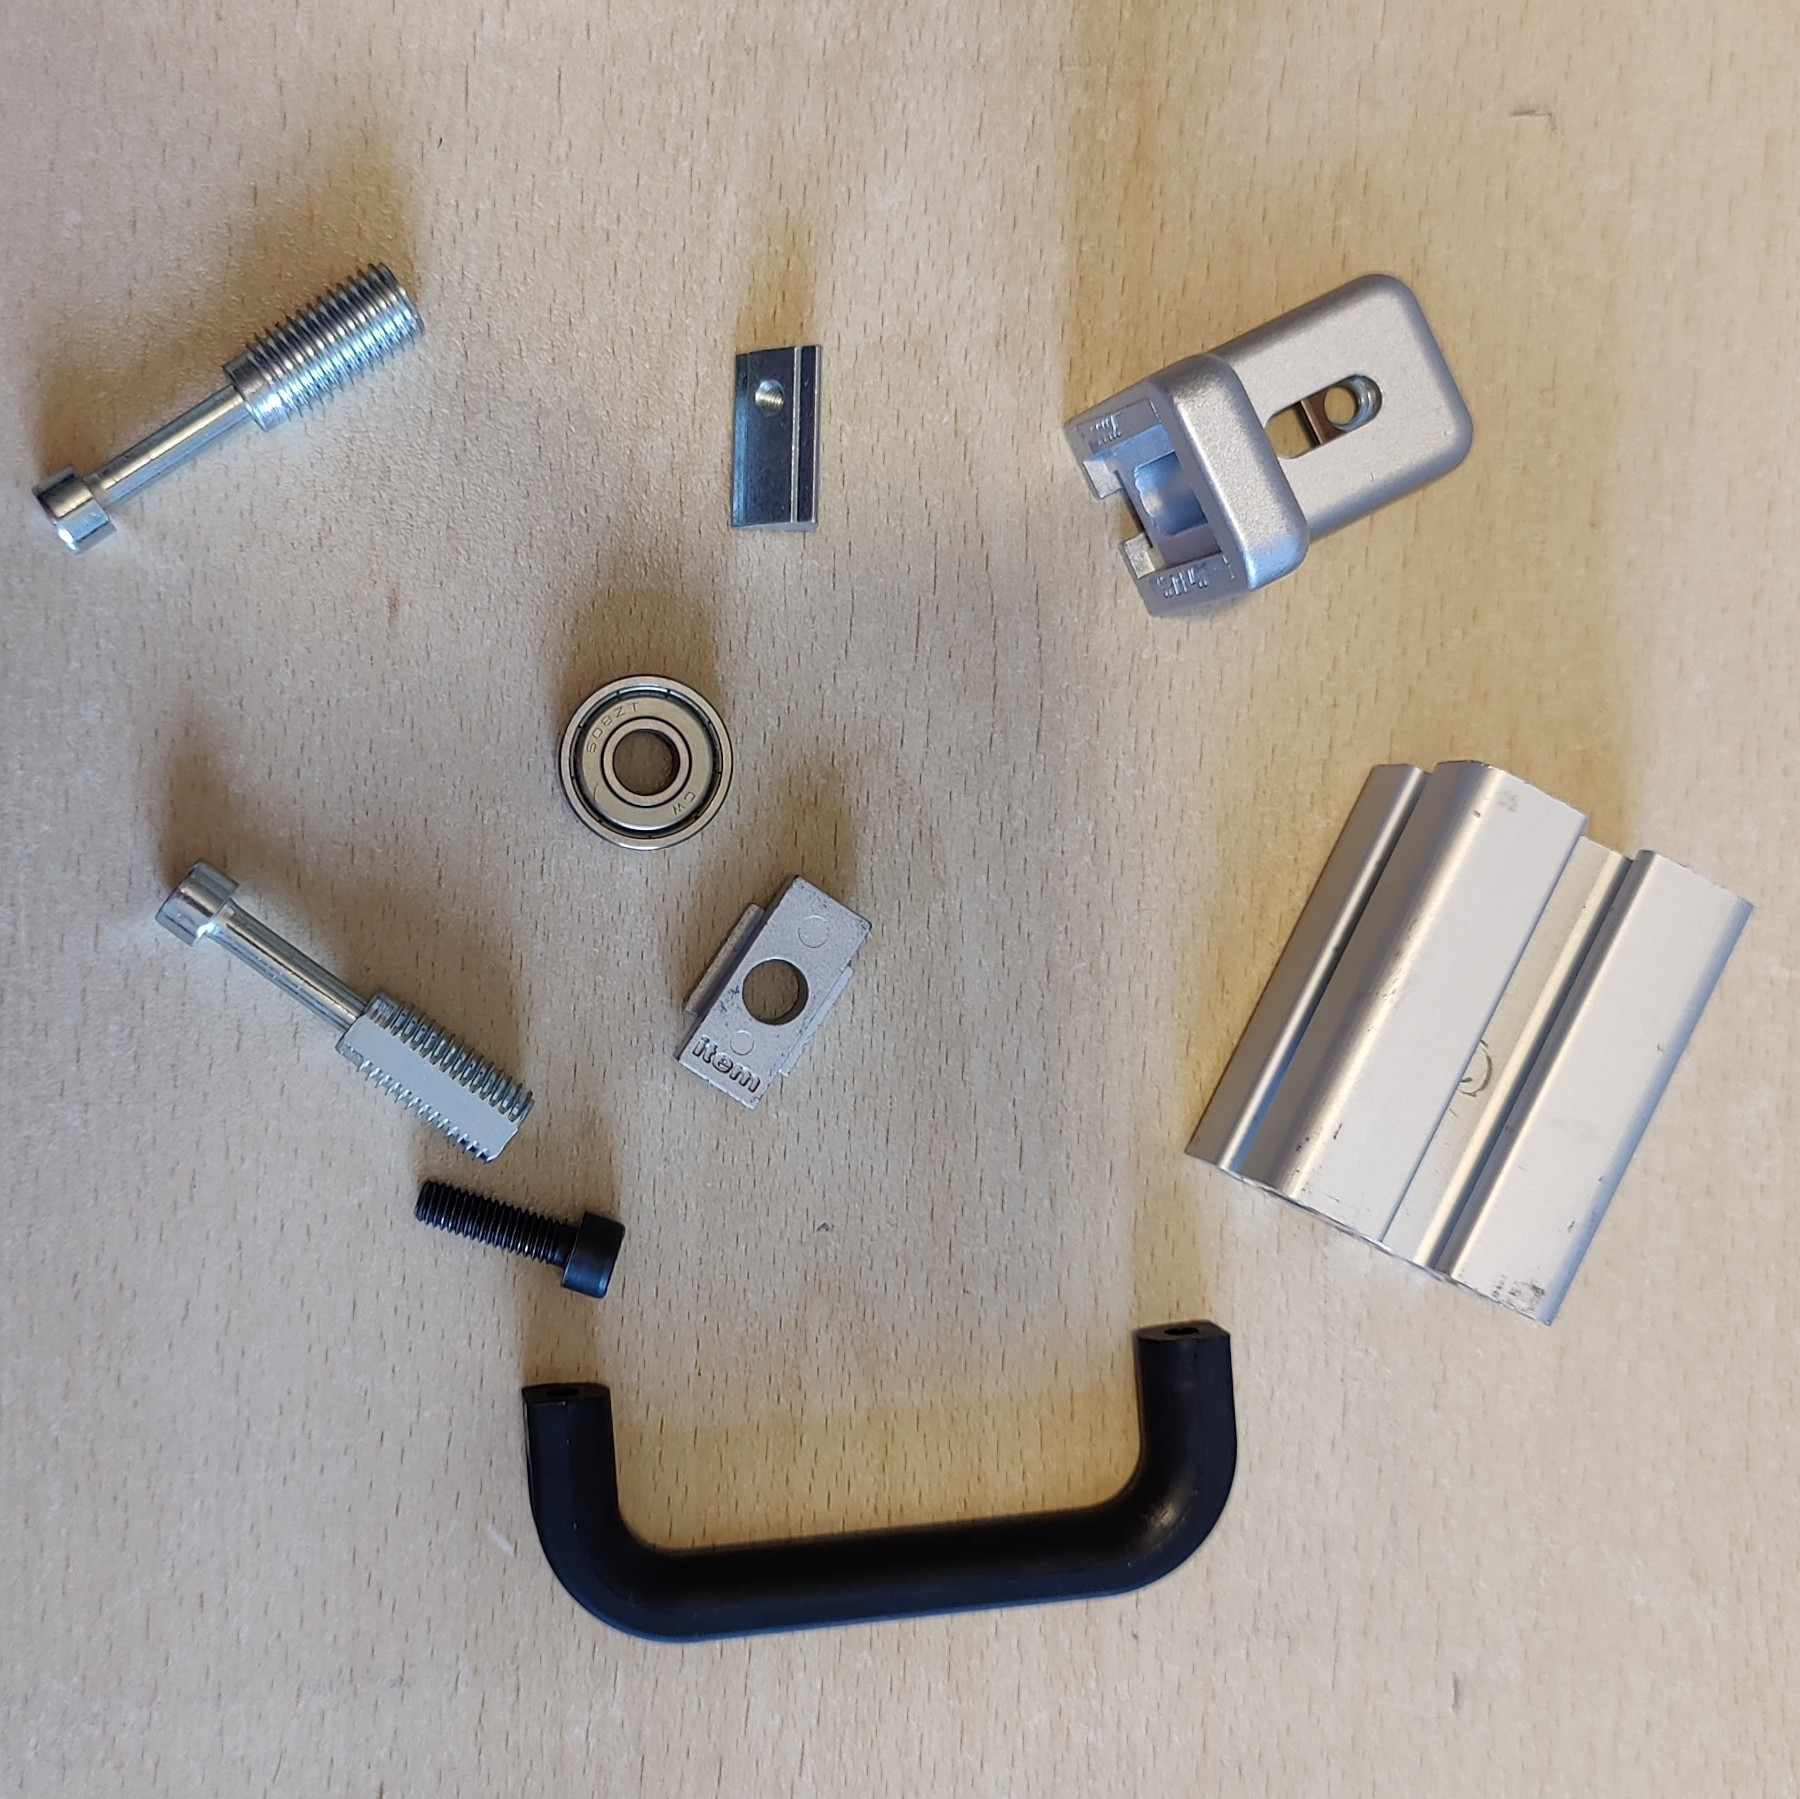Aluminium Extension: (1177, 755, 1756, 1326)
Ball Bearing: (558, 669, 733, 853)
Multiwinkel: (1059, 269, 1476, 618)
Pull Handle: (517, 1315, 1238, 1644)
Shoulder Socket Head Cap Screw: (152, 853, 540, 1165), (28, 260, 428, 557)
Socket Head Cap Screw: (412, 1173, 629, 1300)
T Nut Square: (665, 868, 878, 1114)
T Spring Nut: (731, 338, 825, 535)
